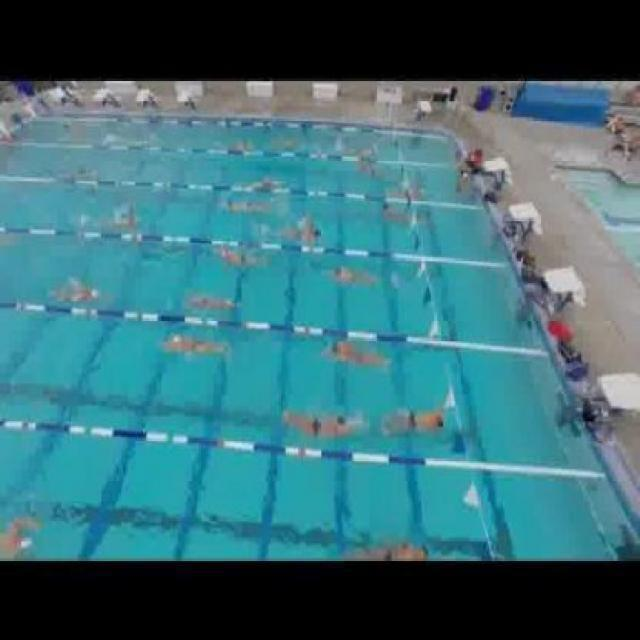swimming: (382, 405, 452, 437), (326, 340, 387, 373), (280, 412, 352, 438), (346, 538, 431, 560), (176, 290, 244, 315), (160, 330, 222, 356), (55, 278, 98, 306), (332, 267, 386, 289), (218, 245, 258, 272), (97, 209, 149, 227), (260, 225, 322, 240), (224, 199, 272, 212), (383, 205, 417, 220), (253, 174, 290, 187), (229, 140, 247, 147)
